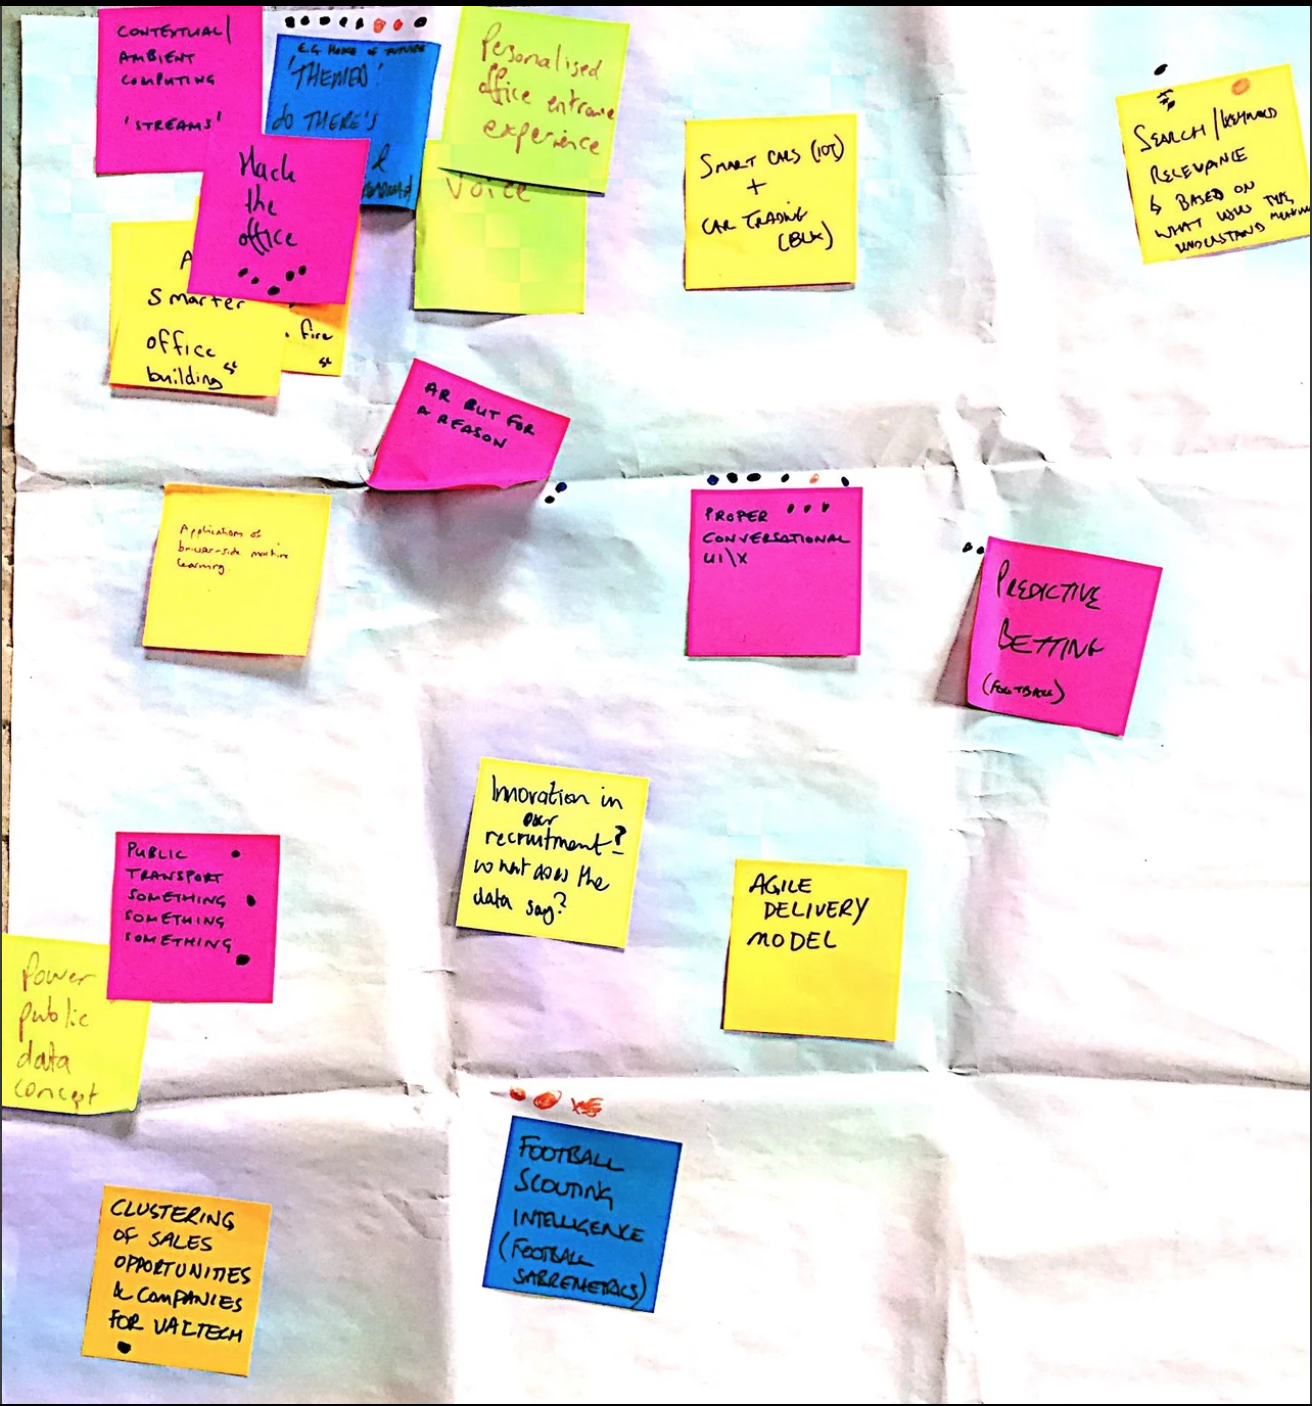stickynote: (950, 526, 1171, 753), (109, 207, 350, 407), (470, 1108, 685, 1318), (444, 749, 652, 967), (1114, 53, 1312, 274), (70, 1174, 273, 1384), (711, 851, 921, 1051), (139, 466, 344, 662), (681, 466, 868, 666), (678, 107, 865, 305), (440, 13, 634, 202), (411, 139, 606, 320), (363, 354, 580, 512), (265, 26, 445, 213), (98, 825, 285, 1005), (191, 123, 368, 313), (91, 1, 269, 185), (1, 933, 163, 1120)
